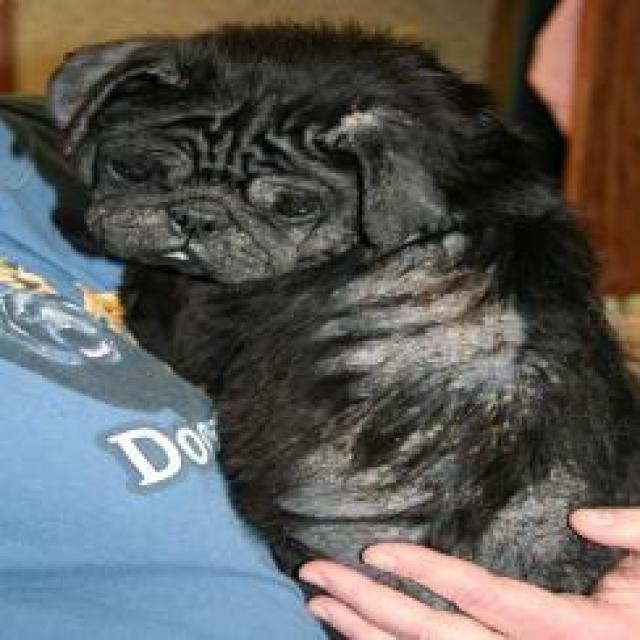fungal infection: (312, 242, 553, 409), (255, 438, 464, 538), (493, 459, 579, 561)
